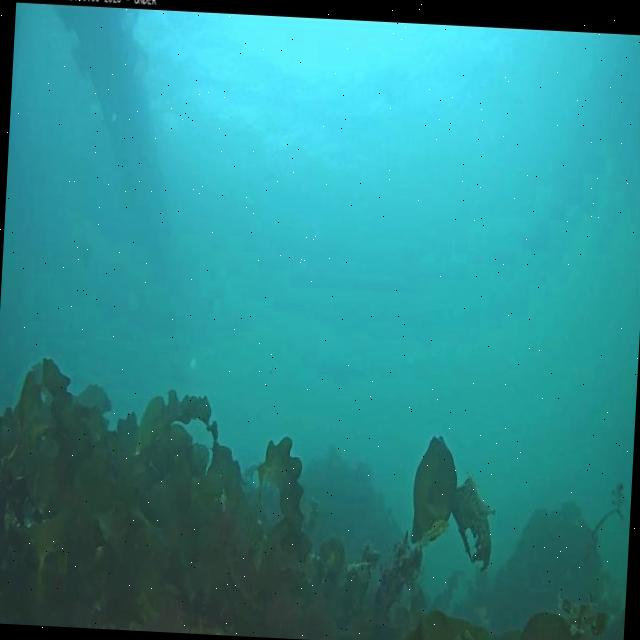fish: (422, 520, 449, 544)
